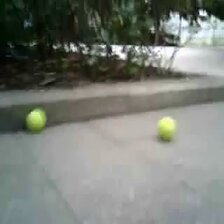tennis: (156, 117, 176, 142), (24, 110, 45, 130)
